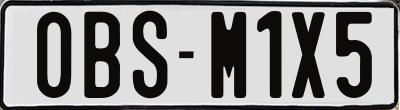0: (36, 12, 73, 98)
1: (256, 9, 285, 100)
5: (333, 12, 369, 99)
B: (81, 9, 120, 96)
M: (210, 12, 249, 98)
S: (130, 8, 168, 101)
X: (290, 11, 323, 99)
